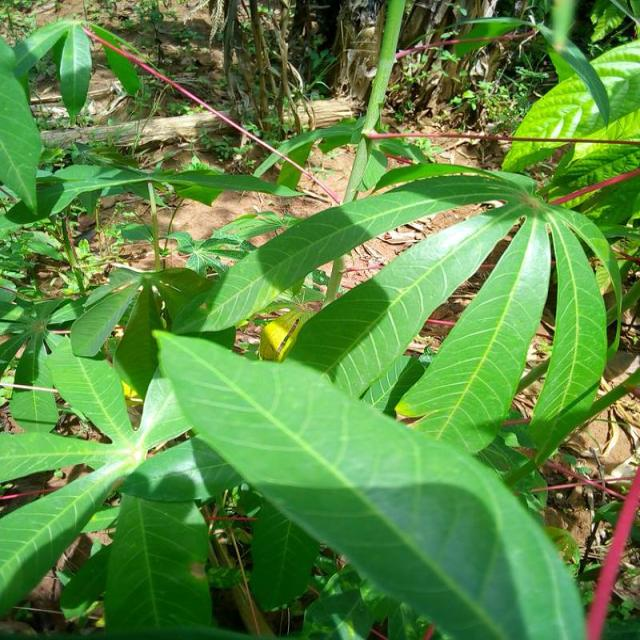cassava leaf: (151, 326, 588, 638)
